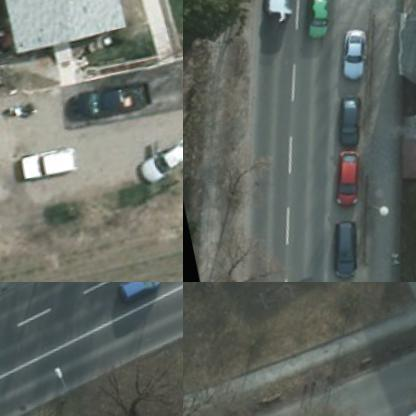car: (316, 218, 364, 280), (131, 132, 182, 190), (324, 148, 366, 208), (17, 144, 76, 184), (331, 22, 366, 82), (330, 92, 361, 148), (292, 0, 334, 41), (112, 282, 156, 303)
pickup: (61, 78, 150, 128)
